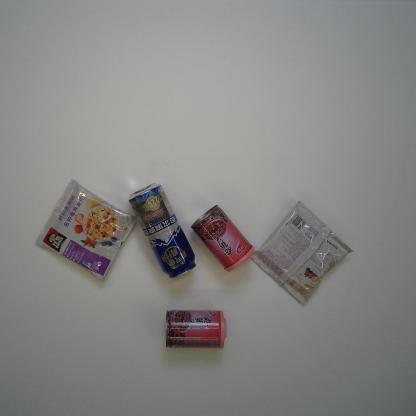Alcohol: (127, 181, 197, 279)
Canned Food: (190, 203, 256, 272), (164, 308, 228, 350)
Instant Drink: (33, 177, 139, 284), (250, 200, 356, 306)
